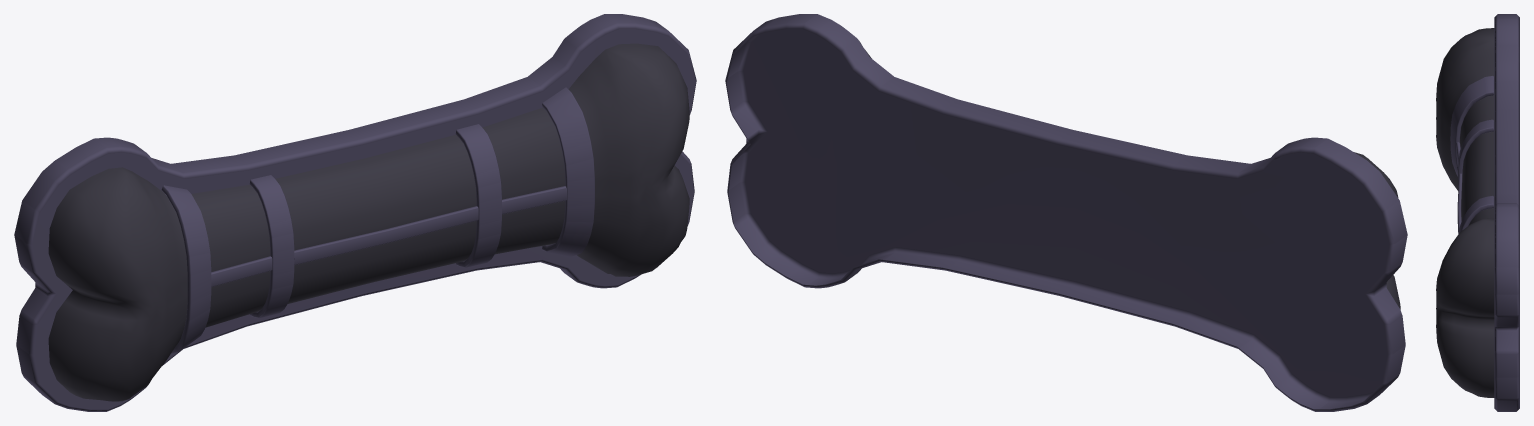
File: SM_Bone_Window_01.fbx
3 renders of one model, left to right at view 1: azimuth 30°, elevation 25°; view 2: azimuth 150°, elevation 25°; view 3: azimuth 270°, elevation 25°, orthographic. The views are drawn at different scales.
Visible parts, largest first — view 1: Bone_Window_02; view 2: Bone_Window_02; view 3: Bone_Window_02.
Part boxes in pixels (x1,y1,x2,y2): Bone_Window_02: (14, 14, 696, 411); Bone_Window_02: (725, 14, 1407, 411); Bone_Window_02: (1436, 14, 1519, 411).
Bounding box in the file's own units: 2189 × 825 × 313.
